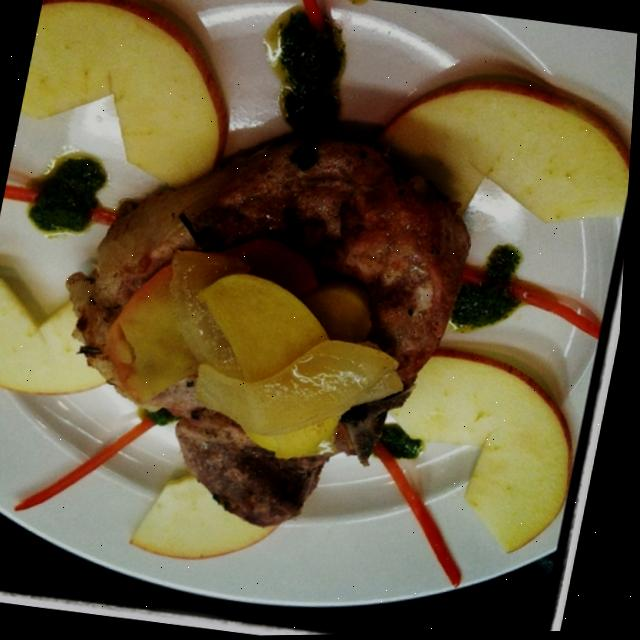猪肉菜式: (0, 9, 638, 623)
